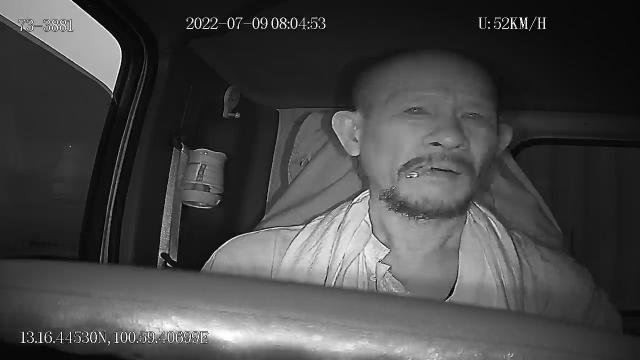SafeDriving: (396, 95, 440, 123), (453, 100, 491, 128)
Smoking: (404, 165, 432, 180)
